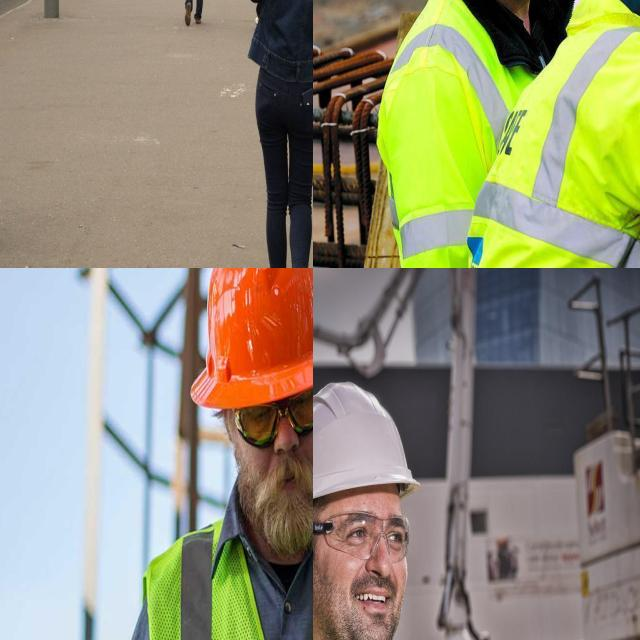face_nomask: (313, 485, 416, 640), (229, 396, 313, 521)
glasses: (234, 377, 313, 451), (319, 511, 412, 565)
head_helmet: (188, 268, 313, 409), (313, 378, 421, 514)
person: (95, 268, 313, 640), (313, 374, 515, 640), (374, 0, 571, 268), (490, 0, 640, 268)
vest: (480, 0, 640, 268), (374, 0, 512, 268), (149, 507, 313, 640)
